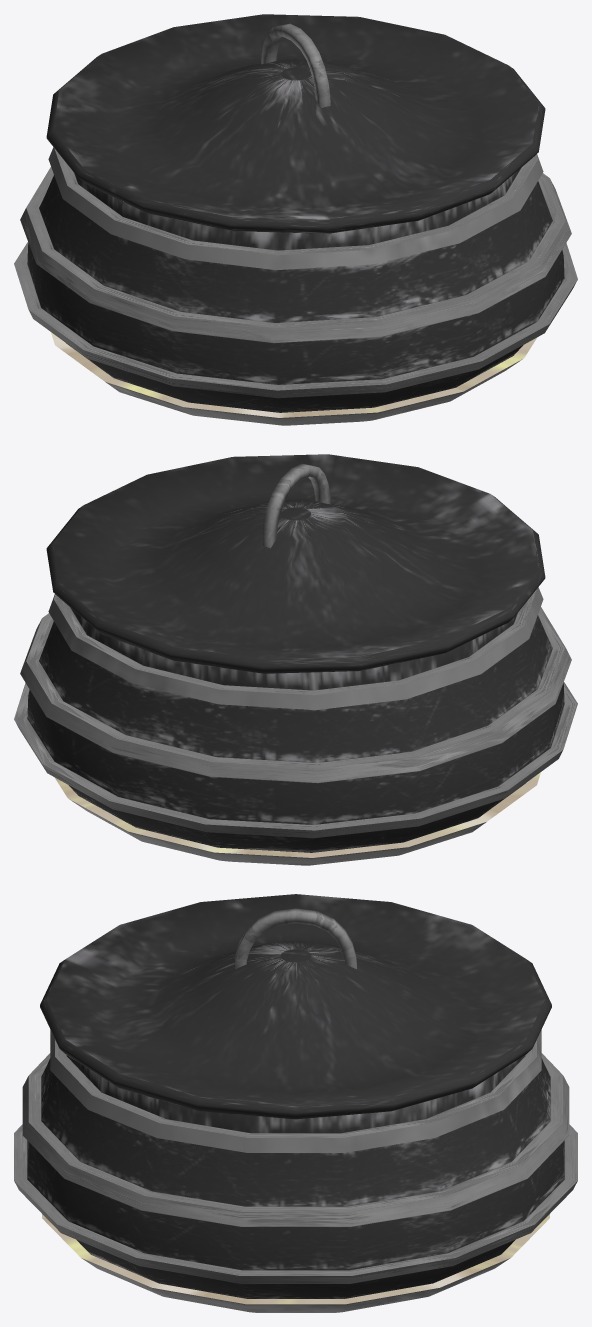
The model's file is pot_iron.glb.
3 renders of one model, top to bottom at view 1: azimuth 30°, elevation 25°; view 2: azimuth 150°, elevation 25°; view 3: azimuth 270°, elevation 25°, orthographic.
Parts seen in each view (by area): view 1: Object_36; view 2: Object_36; view 3: Object_36.
Part boxes in pixels (box(x1,y1,x2,y2)): Object_36: box(14, 14, 577, 425); Object_36: box(14, 454, 577, 865); Object_36: box(14, 894, 577, 1312).
Size of the model in its own units: 0.4709 by 0.2937 by 0.4709.
Materials: 1 (1 with a texture image).
